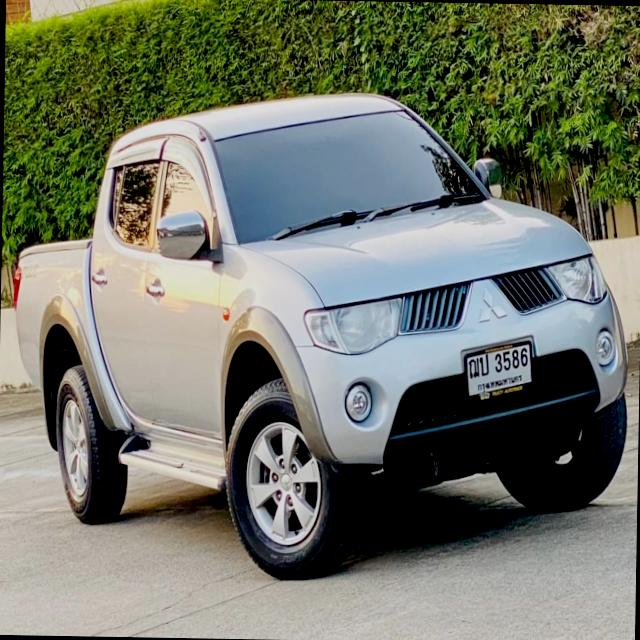license_plate: (460, 337, 535, 408)
